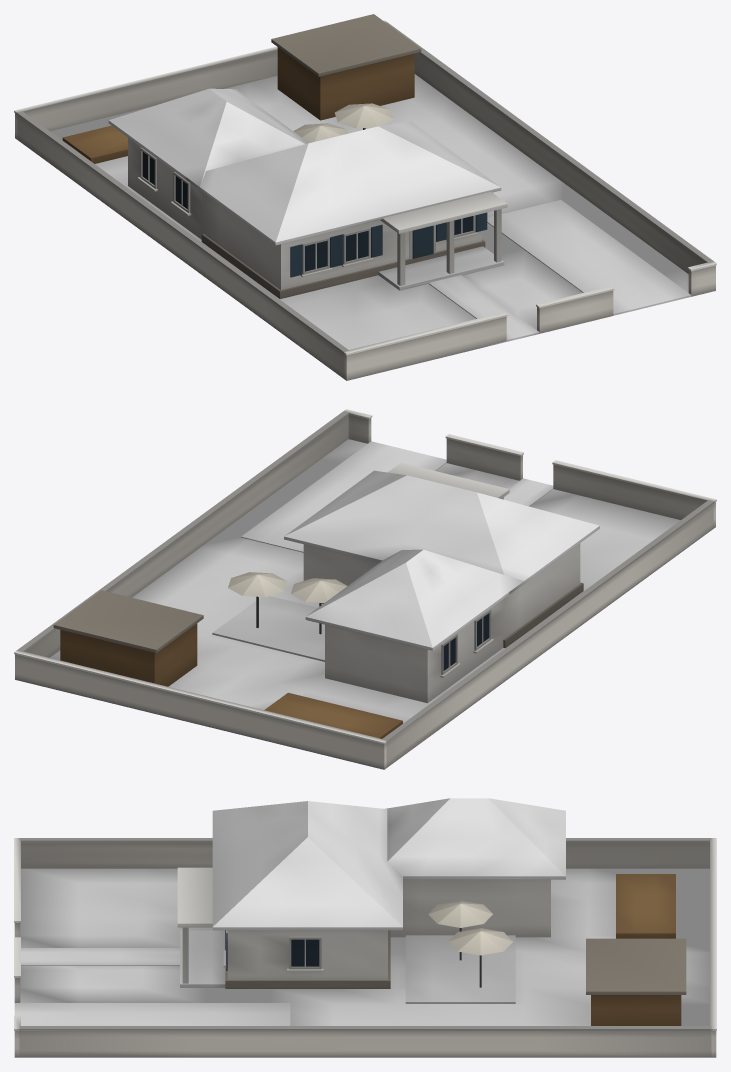
The model's file is chalet-BkKX1vhc.glb.
3 views of the same model, one above another, from view 1: azimuth 30°, elevation 25°; view 2: azimuth 150°, elevation 25°; view 3: azimuth 270°, elevation 25° (orthographic). The views are drawn at different scales.
Visible parts, largest first — view 1: pasto, techo, techo.001, pieza.012, pieza.008, pieza.010, pieza.015, pieza.006, pieza.025, pieza.026, pieza, pieza.016 (+14 smaller); view 2: pasto, techo, techo.001, pieza.006, pieza.016, pieza.008, pieza.010, pieza.012, pieza.026, pieza.015, pieza.025, pieza.022 (+13 smaller); view 3: pasto, techo, pieza.010, techo.001, pieza.008, pieza.016, pieza.015, pieza.022, pieza.012, pieza.026, pieza.027, pieza.011 (+11 smaller).
Boxes of the visible parts, x1,y1,x2,y2 form: pasto: (15,74,691,380); techo: (185,121,501,245); techo.001: (108,88,308,186); pieza.012: (487,200,691,314); pieza.008: (17,115,343,377); pieza.010: (414,52,705,273); pieza.015: (205,194,481,289); pieza.006: (15,51,277,138); pieza.025: (277,47,414,120); pieza.026: (271,14,421,76); pieza: (344,316,506,379); pieza.016: (128,137,204,239); pasto: (15,439,715,769); techo: (284,470,599,594); techo.001: (305,549,523,650); pieza.006: (15,654,386,768); pieza.016: (325,598,504,703); pieza.008: (387,504,713,766); pieza.010: (25,415,348,657); pieza.012: (241,441,446,552); pieza.026: (53,590,203,652); pieza.015: (303,543,580,638); pieza.025: (60,623,197,686); pieza.022: (212,596,324,661); pasto: (14,868,716,1057); techo: (212,801,402,930); pieza.010: (20,1031,710,1056); techo.001: (385,798,565,879); pieza.008: (21,842,709,868); pieza.016: (390,879,550,937); pieza.015: (227,930,387,979); pieza.022: (405,935,515,1003); pieza.012: (14,1003,290,1025); pieza.026: (586,938,686,994); pieza.027: (616,874,675,938); pieza.011: (19,1026,711,1030).
Size of the model in its own units: 18.06 by 5.2 by 28.06.
